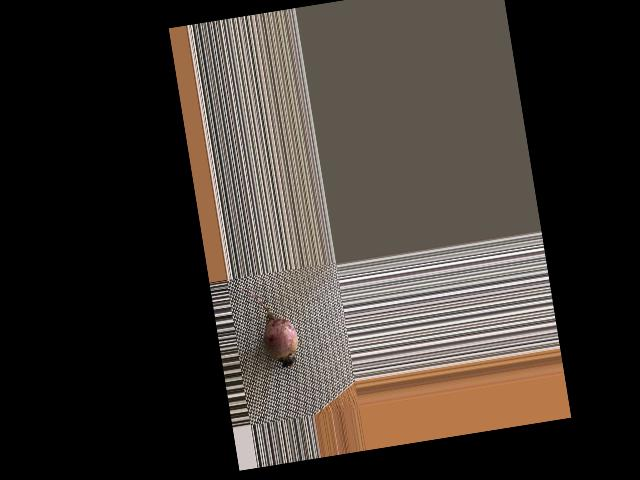beet: (241, 281, 301, 374)
